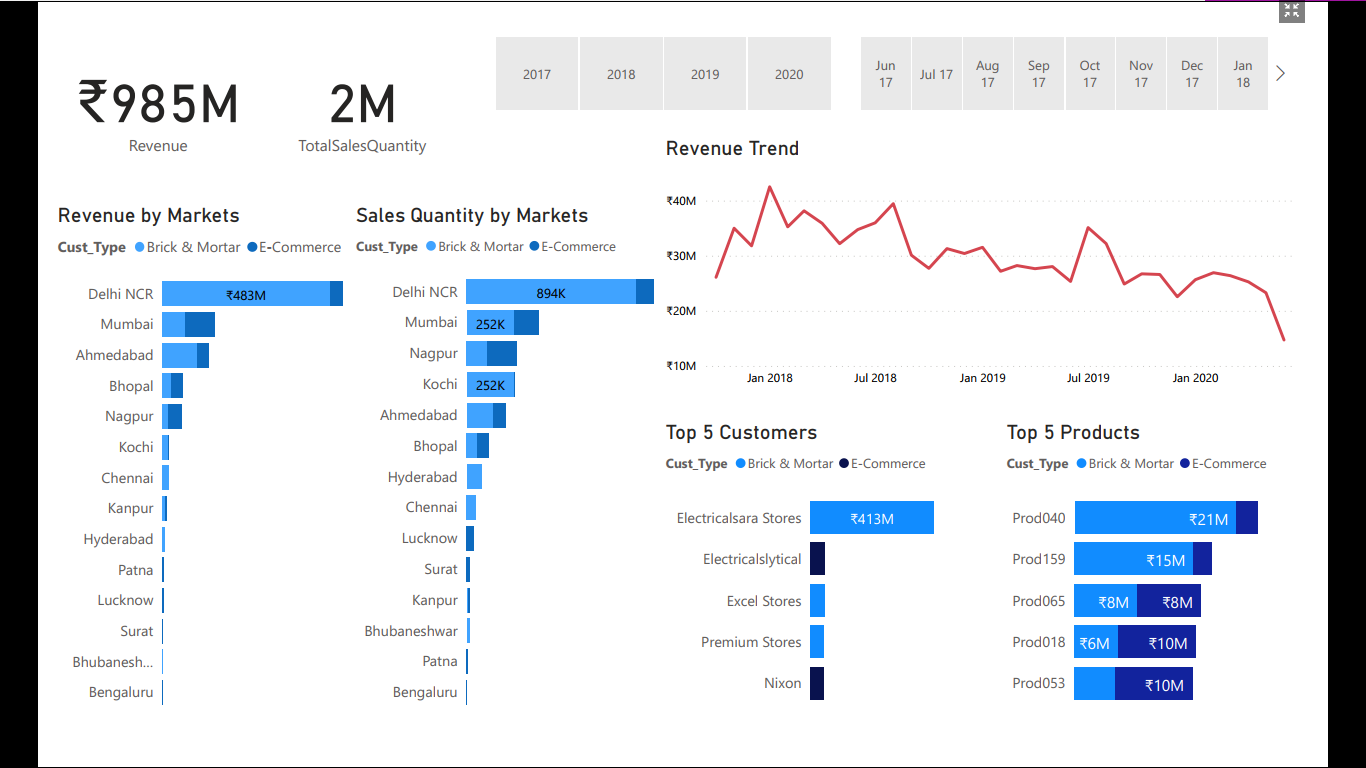

What the dashboard file says about the page in this screenshot:
{"tool":"powerbi","page":{"name":"Page 1","canvas":[1280,720],"ordinal":0},"visuals":[{"type":"card","fields":{"Values":["BaseMeasures.Revenue"]},"box":[0,0,213.5,155.8],"z":0},{"type":"card","fields":{"Values":["BaseMeasures.TotalSalesQuantity"]},"box":[213.5,0,202,155.8],"z":1000},{"type":"barChart","title":"Revenue by Markets","fields":{"Category":["sales markets.markets_name"],"Y":["BaseMeasures.Revenue"],"Series":["sales customers.customer_type"]},"box":[0,176,327.5,526.7],"z":2000},{"type":"barChart","title":"Sales Quantity by Markets","fields":{"Category":["sales markets.markets_name"],"Y":["BaseMeasures.TotalSalesQuantity"],"Series":["sales customers.customer_type"]},"box":[303,176,314.5,526.7],"z":3000},{"type":"barChart","title":"Top 5 Customers","fields":{"Category":["sales customers.custmer_name"],"Y":["BaseMeasures.Revenue"],"Series":["sales customers.customer_type"]},"box":[617.6,396.8,339.1,305.9],"z":4000},{"type":"barChart","title":"Top 5 Products","fields":{"Category":["sales products.product_code"],"Y":["BaseMeasures.Revenue"],"Series":["sales customers.customer_type"]},"box":[963.8,396.8,316,305.9],"z":5000},{"type":"lineChart","title":"Revenue Trend","fields":{"Y":["BaseMeasures.Revenue"],"Category":["sales date.cy_date"]},"box":[617.6,108.2,662.3,262.6],"z":6000},{"type":"slicer","fields":{"Values":["sales date.year"]},"box":[424.2,0,389.6,88],"z":7000},{"type":"slicer","fields":{"Values":["sales date.cy_date"]},"box":[795,0,463.2,88],"z":8000}]}

Visuals, with their boxes in screenshot pixels (x1, y1, x2, y2), scaled from the page's 1280x720 canvas onto the 1366x768 screenshot:
card - BaseMeasures.Revenue: 0,0,228,166
card - BaseMeasures.TotalSalesQuantity: 228,0,443,166
"Revenue by Markets" barChart: 0,188,350,750
"Sales Quantity by Markets" barChart: 323,188,659,750
"Top 5 Customers" barChart: 659,423,1021,750
"Top 5 Products" barChart: 1029,423,1365,750
"Revenue Trend" lineChart: 659,115,1365,396
slicer - sales date.year: 453,0,868,94
slicer - sales date.cy_date: 848,0,1343,94
